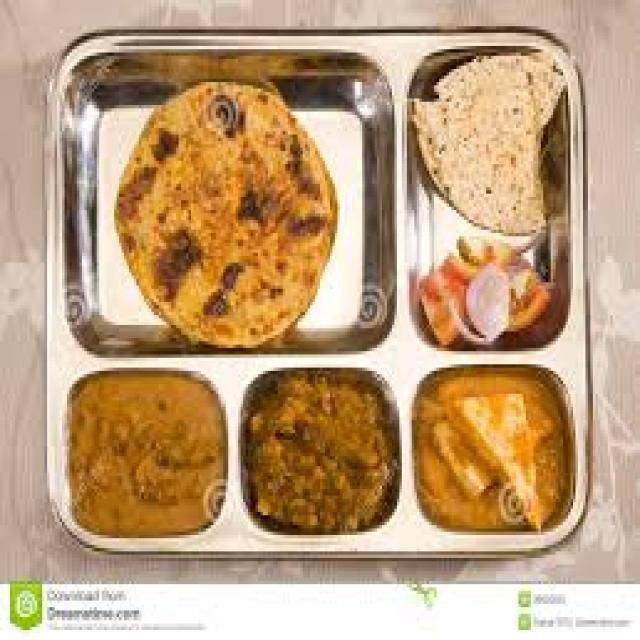papad: (406, 48, 555, 224)
roti: (109, 82, 345, 346)
